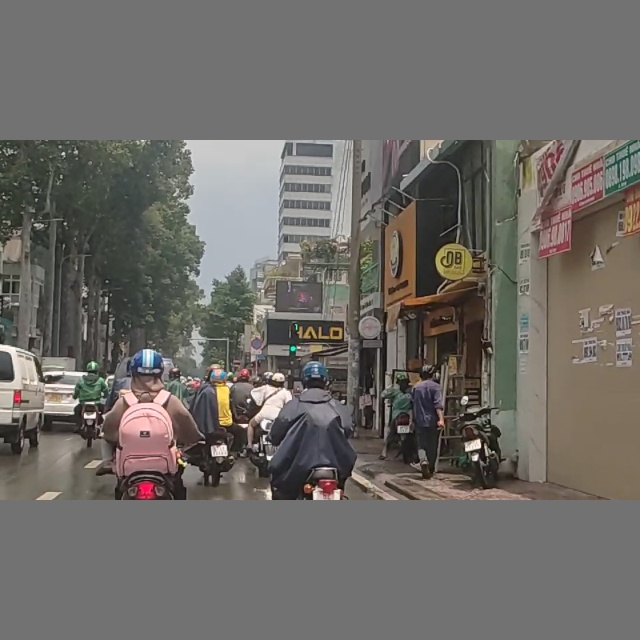P.131a: (250, 337, 263, 350)
